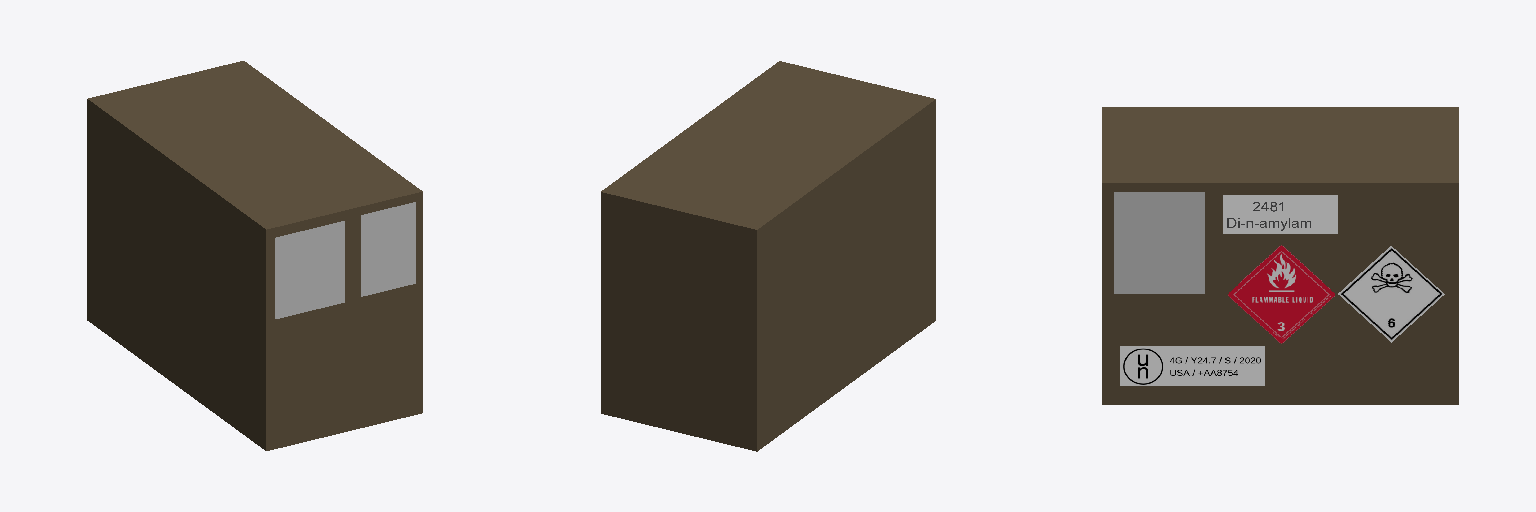
The picture shows the model from 3 angles: view 1: azimuth 30°, elevation 25°; view 2: azimuth 150°, elevation 25°; view 3: azimuth 270°, elevation 25°; orthographic projection.
Visible parts, largest first — view 1: Cube, Screenshot_2025-04-01_151141, Screenshot_2025-04-02_141838; view 2: Cube; view 3: Cube, Screenshot_2025-04-02_141724, image29, image32, image53, text1.
Part boxes in pixels (x1,y1,x2,y2): Cube: (87, 61, 422, 450); Screenshot_2025-04-01_151141: (275, 221, 344, 318); Screenshot_2025-04-02_141838: (361, 202, 415, 296); Cube: (601, 61, 935, 451); Cube: (1102, 107, 1458, 404); Screenshot_2025-04-02_141724: (1114, 192, 1204, 293); image29: (1120, 346, 1264, 385); image32: (1228, 245, 1334, 343); image53: (1338, 246, 1444, 342); text1: (1223, 195, 1337, 233).
Bounding box in the file's own units: 2.02 × 2.71 × 3.97.
8 materials, 4 textured.